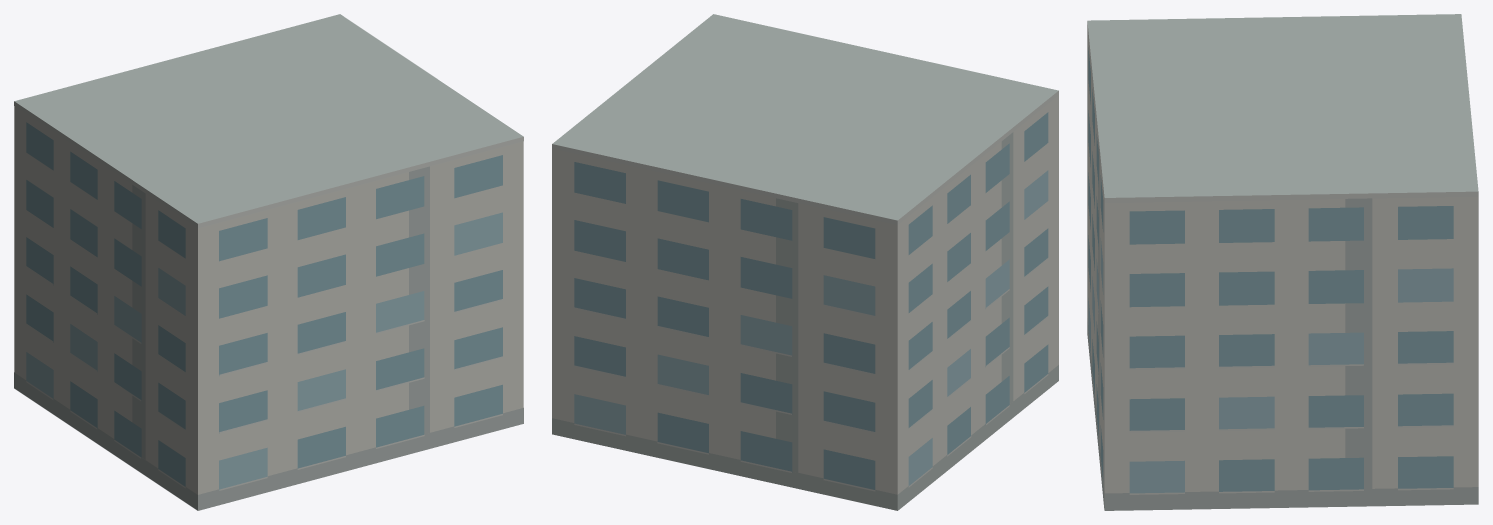
File: residential-3584e5b6-d799-4660-a141-0b9e83faa865.glb
3 views of the same model, side by side, from view 1: azimuth 30°, elevation 25°; view 2: azimuth 150°, elevation 25°; view 3: azimuth 270°, elevation 25° (orthographic). The views are drawn at different scales.
Parts seen in each view (by area): view 1: residential-3584e5b6-d799-4660-a141-0b9e83faa865.tmp; view 2: residential-3584e5b6-d799-4660-a141-0b9e83faa865.tmp; view 3: residential-3584e5b6-d799-4660-a141-0b9e83faa865.tmp.
Boxes of the visible parts, x1=… form: residential-3584e5b6-d799-4660-a141-0b9e83faa865.tmp: x1=14, y1=14, x2=523, y2=510; residential-3584e5b6-d799-4660-a141-0b9e83faa865.tmp: x1=552, y1=14, x2=1058, y2=510; residential-3584e5b6-d799-4660-a141-0b9e83faa865.tmp: x1=1087, y1=14, x2=1478, y2=510.
Size of the model in its own units: 19.24 by 15.25 by 17.29.
